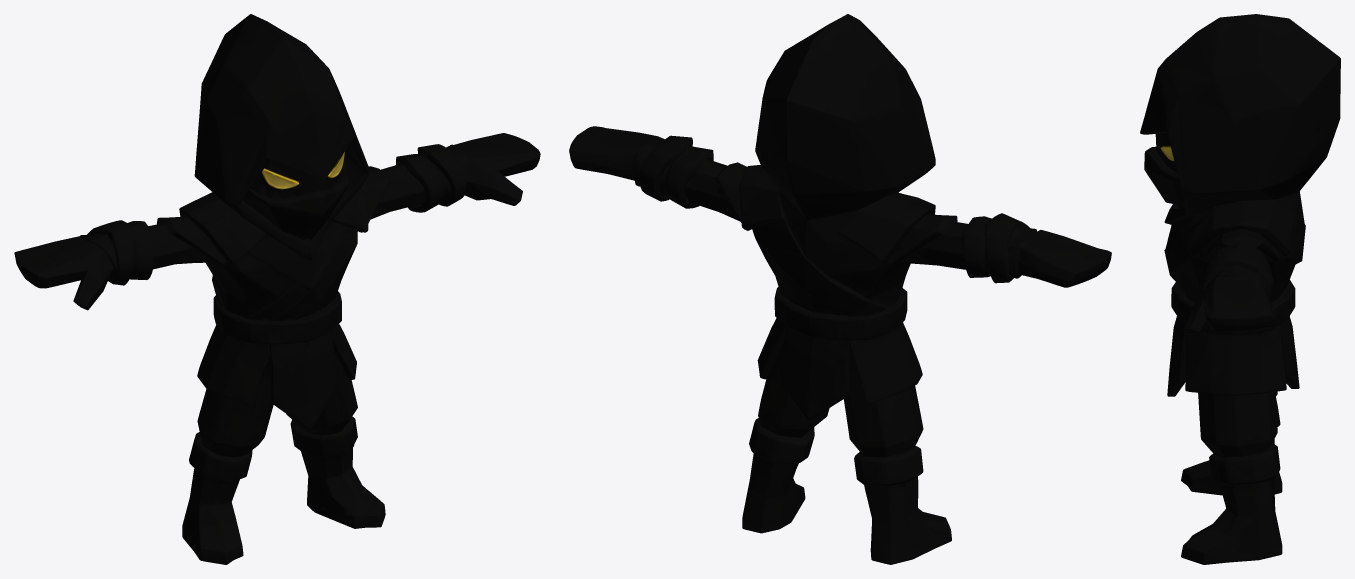
Rendered from Shadow.fbx.
3 renders of one model, left to right at view 1: azimuth 30°, elevation 25°; view 2: azimuth 150°, elevation 25°; view 3: azimuth 270°, elevation 25°, orthographic. The views are drawn at different scales.
Parts seen in each view (by area): view 1: material; view 2: material; view 3: material.
Part boxes in pixels (bbox=[...]): material: bbox=[14, 14, 540, 564]; material: bbox=[569, 14, 1111, 564]; material: bbox=[1140, 14, 1340, 564].
Size of the model in its own units: 116 by 109 by 39.1.
Materials: 1 (1 with a texture image).
